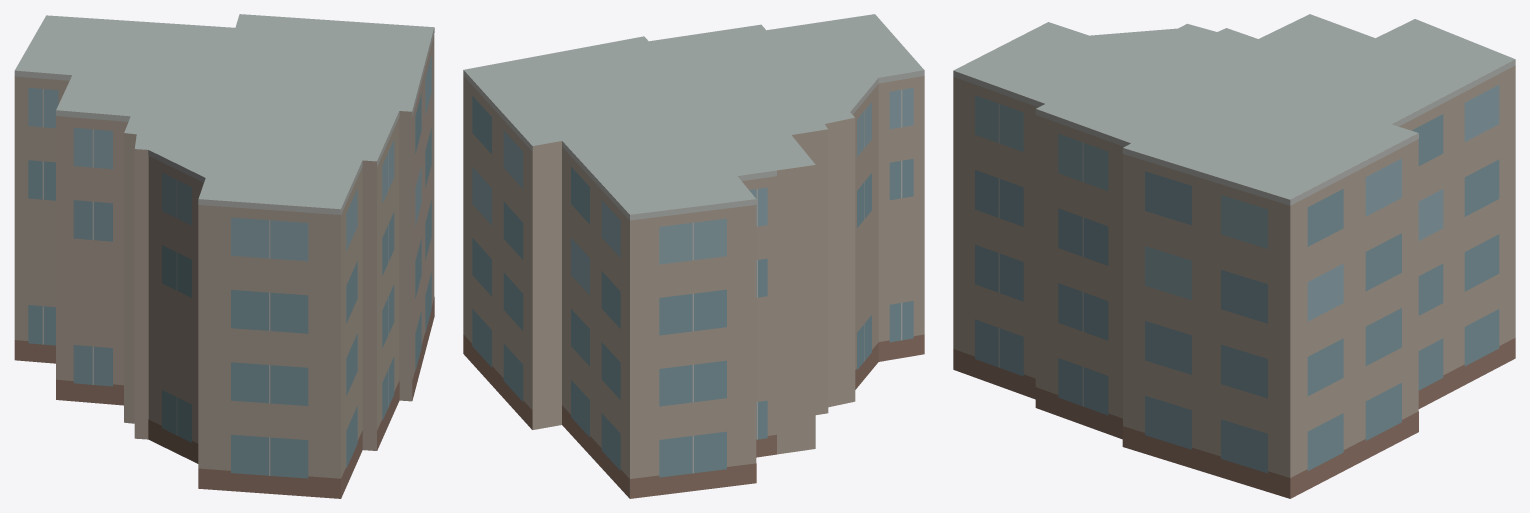
File: survey-upis-32653783.glb
3 renders of one model, left to right at view 1: azimuth 30°, elevation 25°; view 2: azimuth 150°, elevation 25°; view 3: azimuth 270°, elevation 25°, orthographic. The views are drawn at different scales.
Visible parts, largest first — view 1: survey-upis-32653783.tmp; view 2: survey-upis-32653783.tmp; view 3: survey-upis-32653783.tmp.
Boxes of the visible parts, box(x1,y1,x2,y2) form: survey-upis-32653783.tmp: box(14, 14, 434, 498); survey-upis-32653783.tmp: box(463, 14, 924, 498); survey-upis-32653783.tmp: box(953, 14, 1515, 498).
Size of the model in its own units: 16.26 by 12.2 by 20.8.
